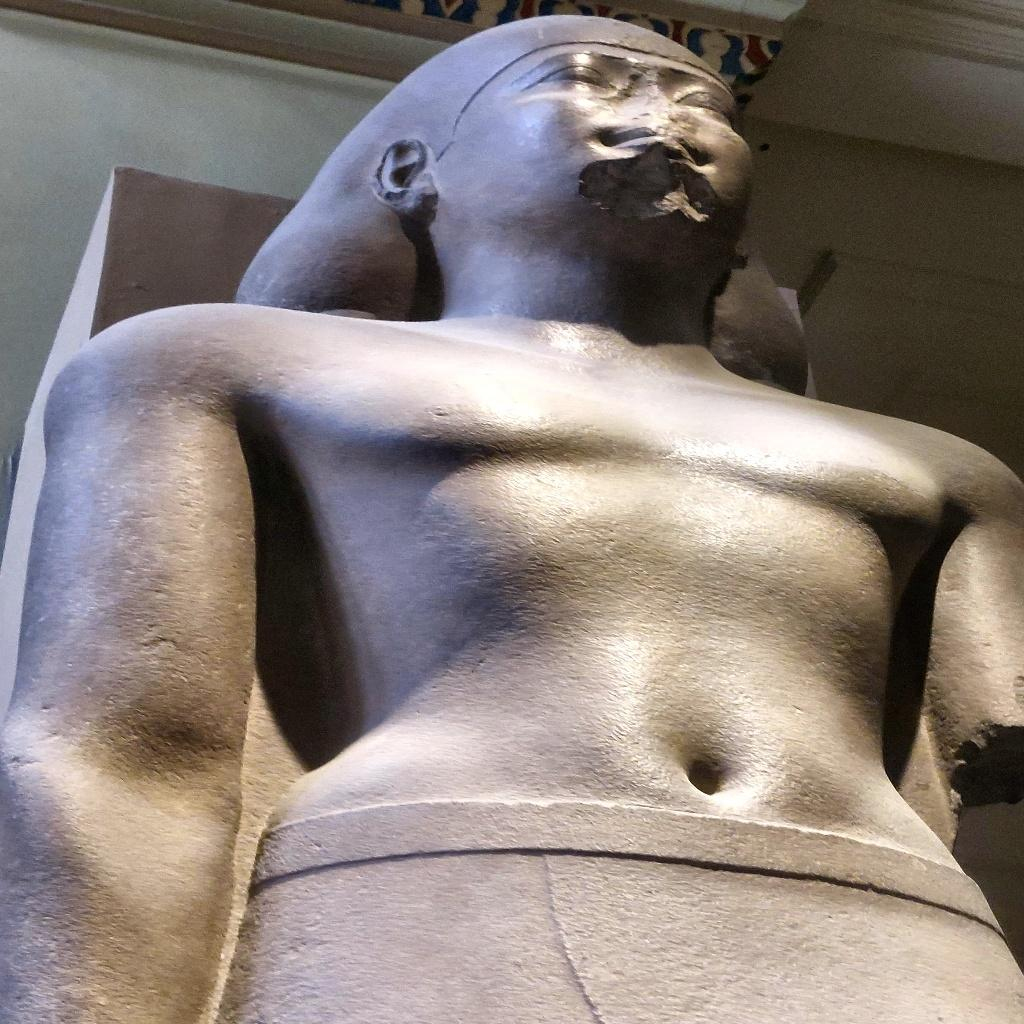Colossal Statue of Hormoheb: (6, 14, 1018, 1018)
